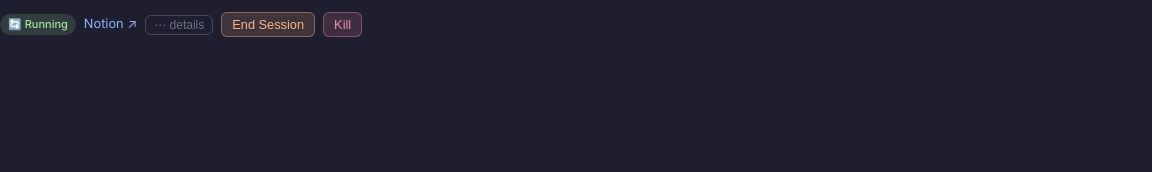
SessionControls — embedded mode › expands on click in embedded mode (aria-expanded=true)
The width and height of the screenshot is (1152, 172).
Click the button with aria-label "Show session details": {"x": 179, "y": 24} x1=145 y1=14 x2=213 y2=34
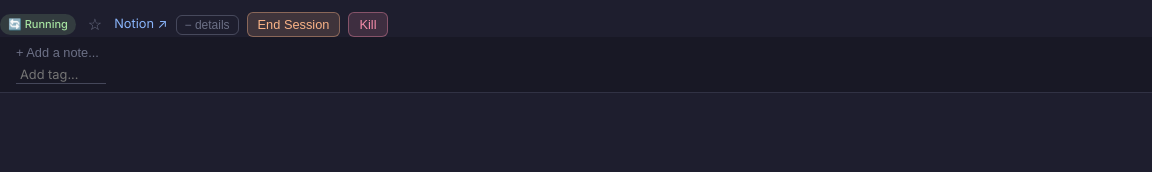
Now the button with aria-label "Hide session details" is expanded, box x1=176 y1=14 x2=238 y2=34
